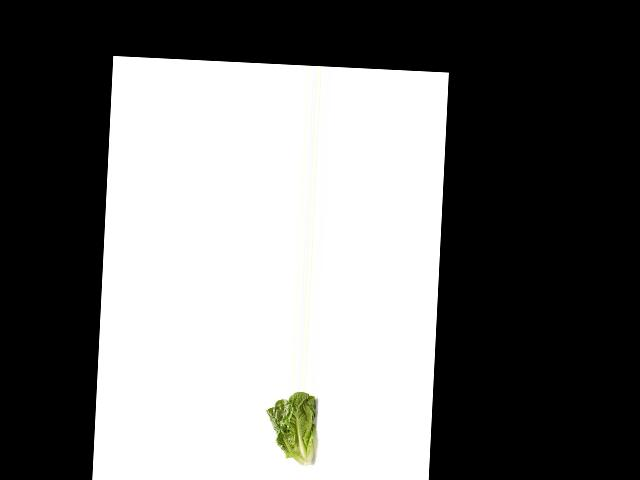lettuce: (263, 390, 328, 469)
